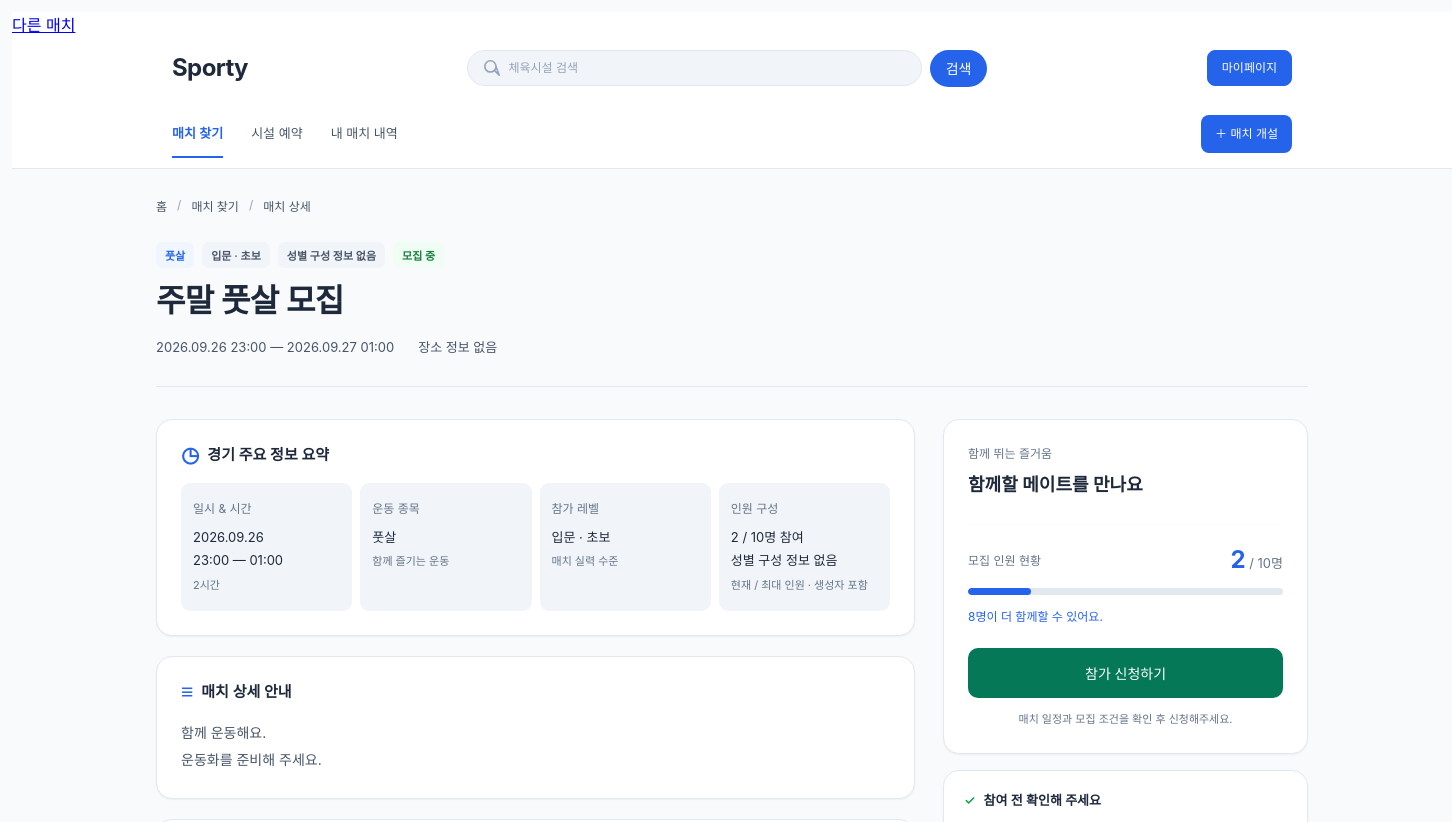
Test: shows join failure 403
Click the button "참가 신청하기". click: [1126, 673]
box: [968,648,1283,698]
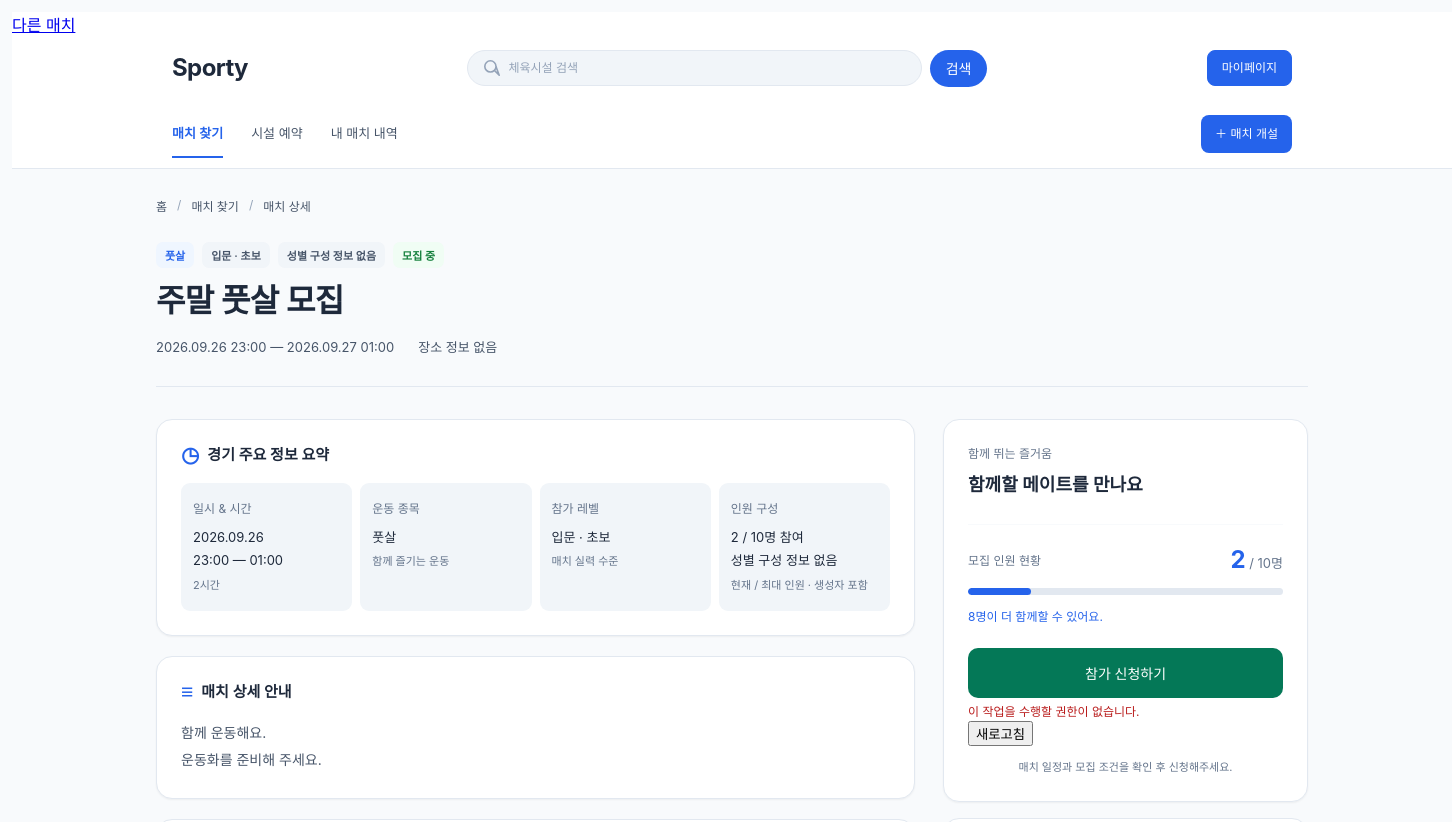
Check: the message shows "권한", box [968,704,1140,746]
